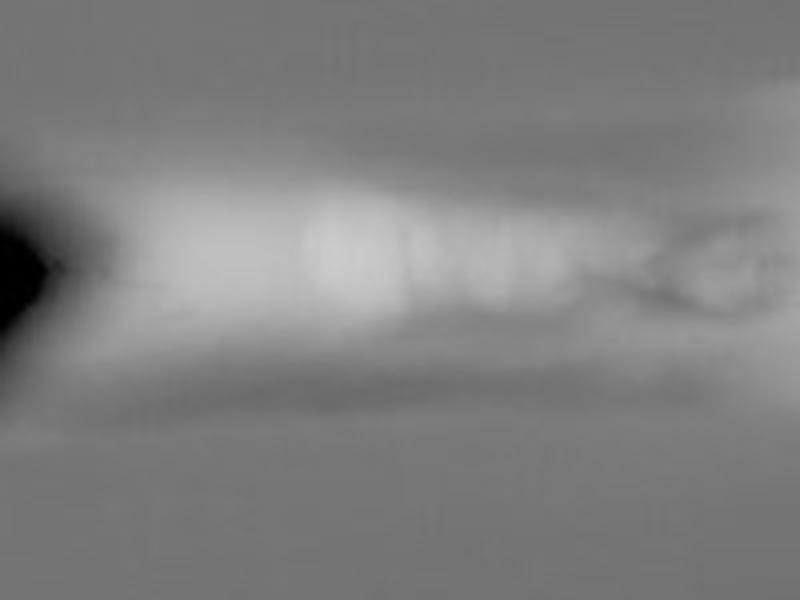defect: (4, 205, 46, 348)
